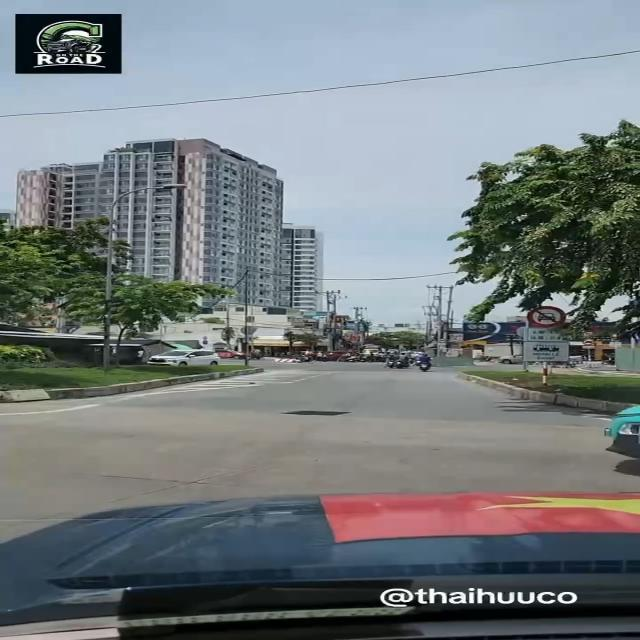103a-cam-oto: (526, 305, 566, 328)
